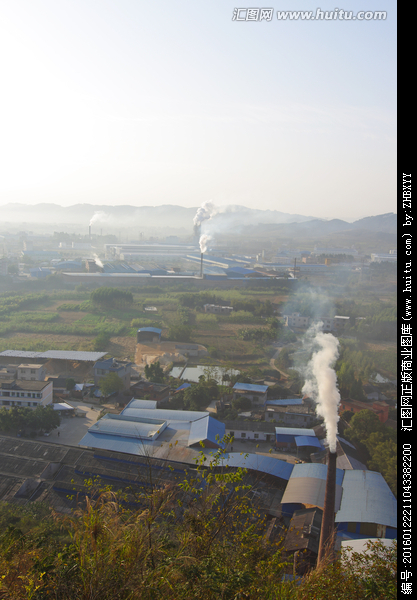dust: (294, 335, 373, 457), (167, 188, 230, 264)
